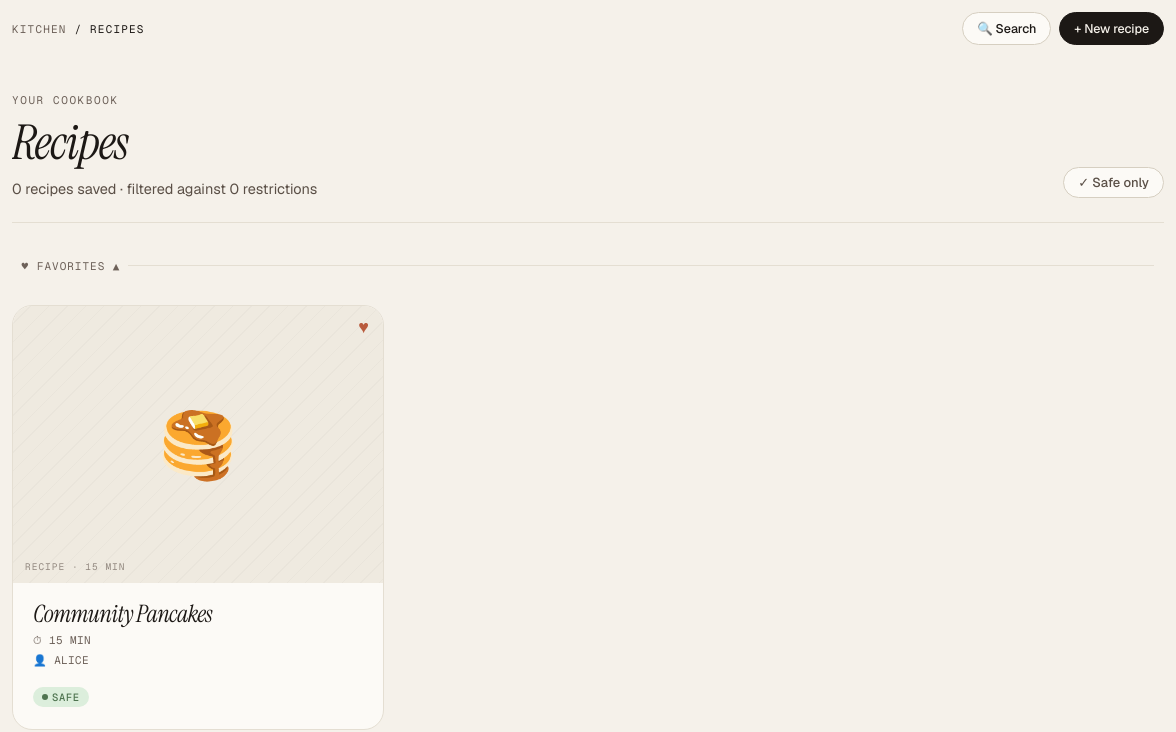
Scenario: RecipesScreen – favorites section › shows favorite cards again after toggling twice
Click the button "♥ Favorites ▲" at (71, 266), box x1=22 y1=259 x2=120 y2=273
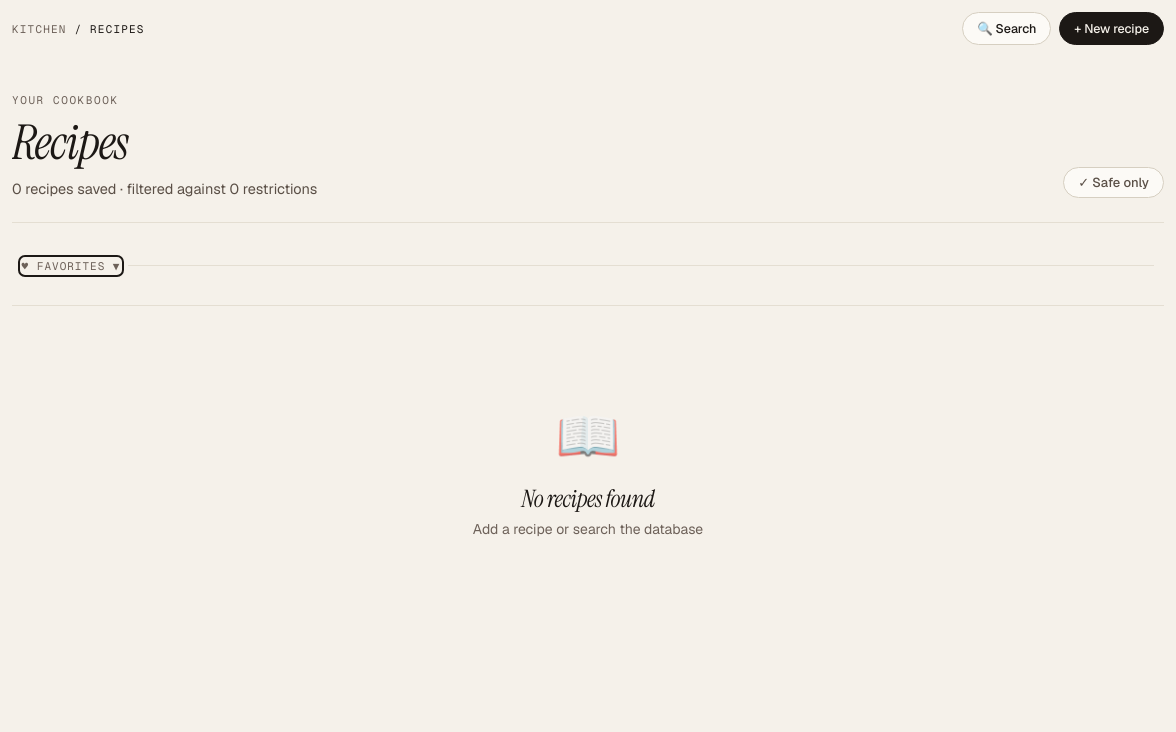
Click the button "♥ Favorites ▼" at (71, 266), box x1=22 y1=259 x2=120 y2=273
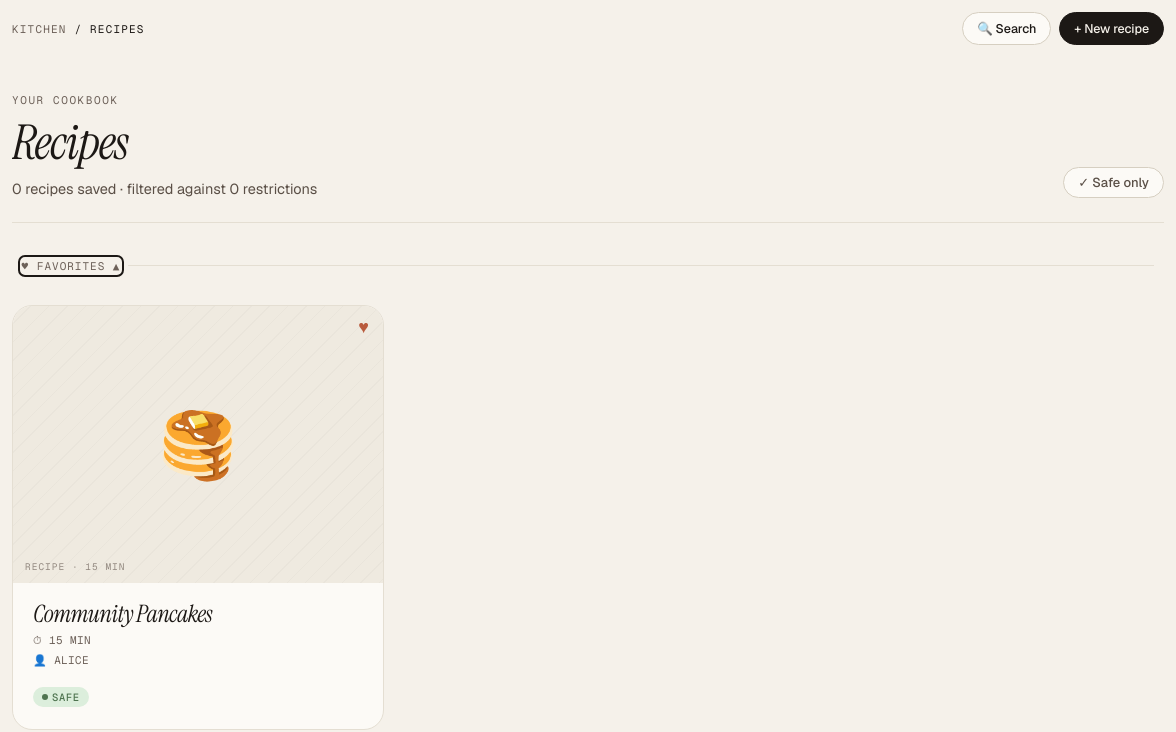
Result: the text "Community Pancakes" is shown at x1=33 y1=598 x2=212 y2=630
